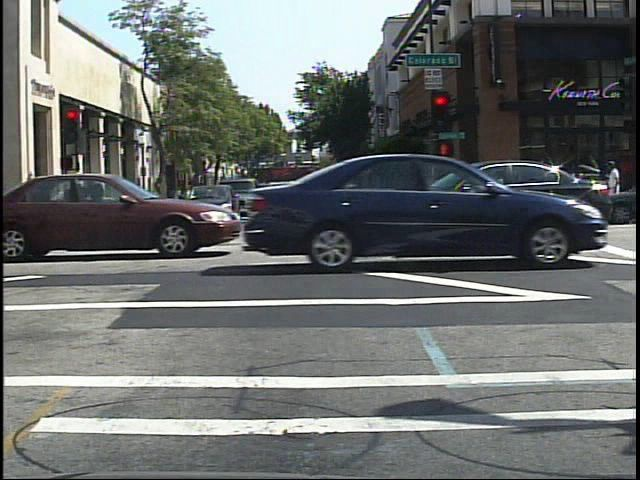person: (601, 156, 628, 221)
